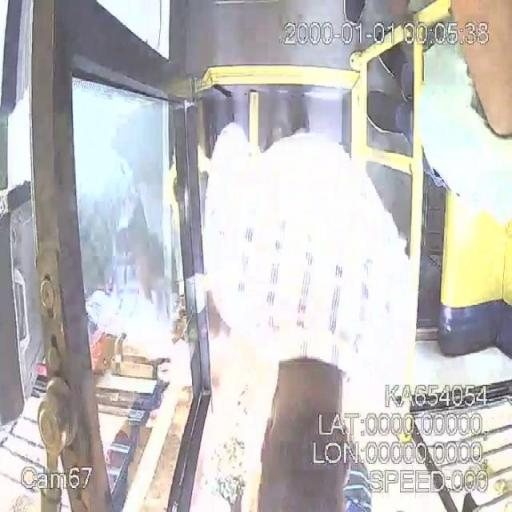persona: (198, 115, 418, 510)
